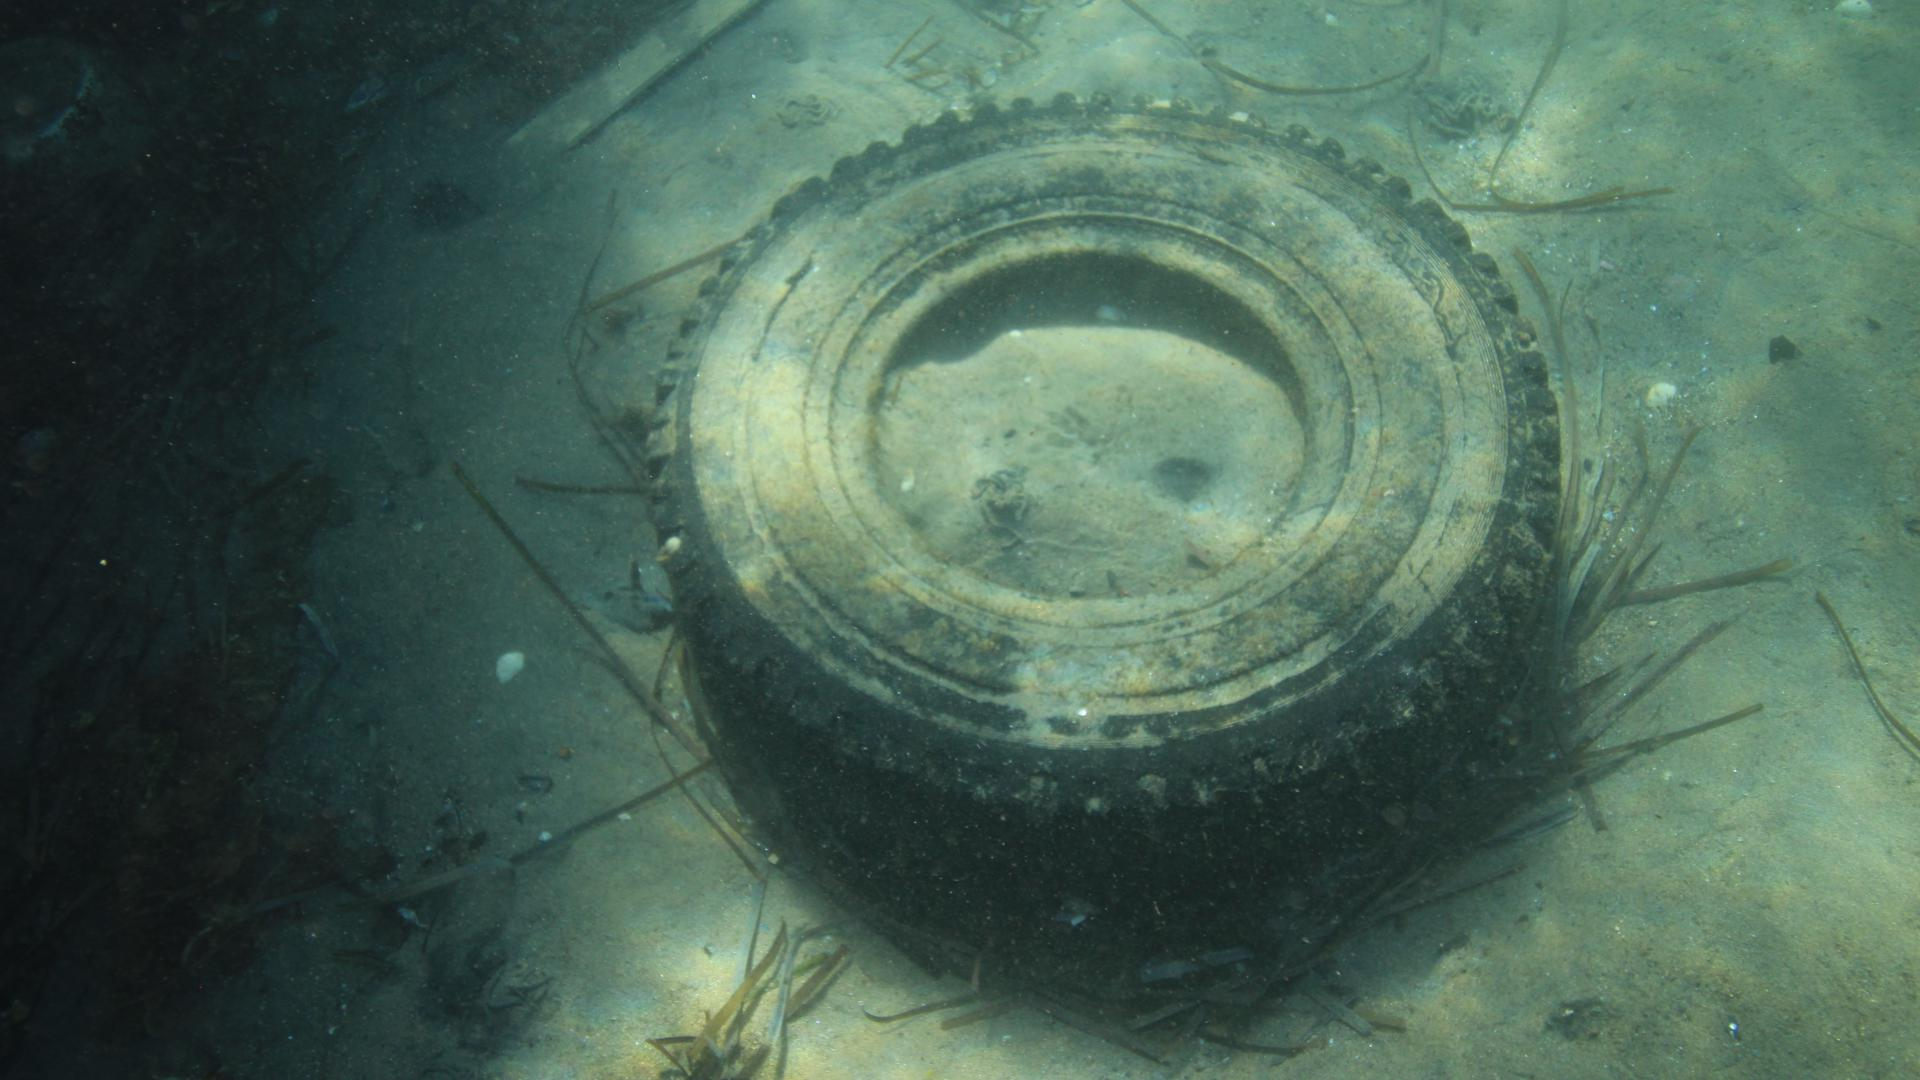tire: (645, 90, 1559, 949)
